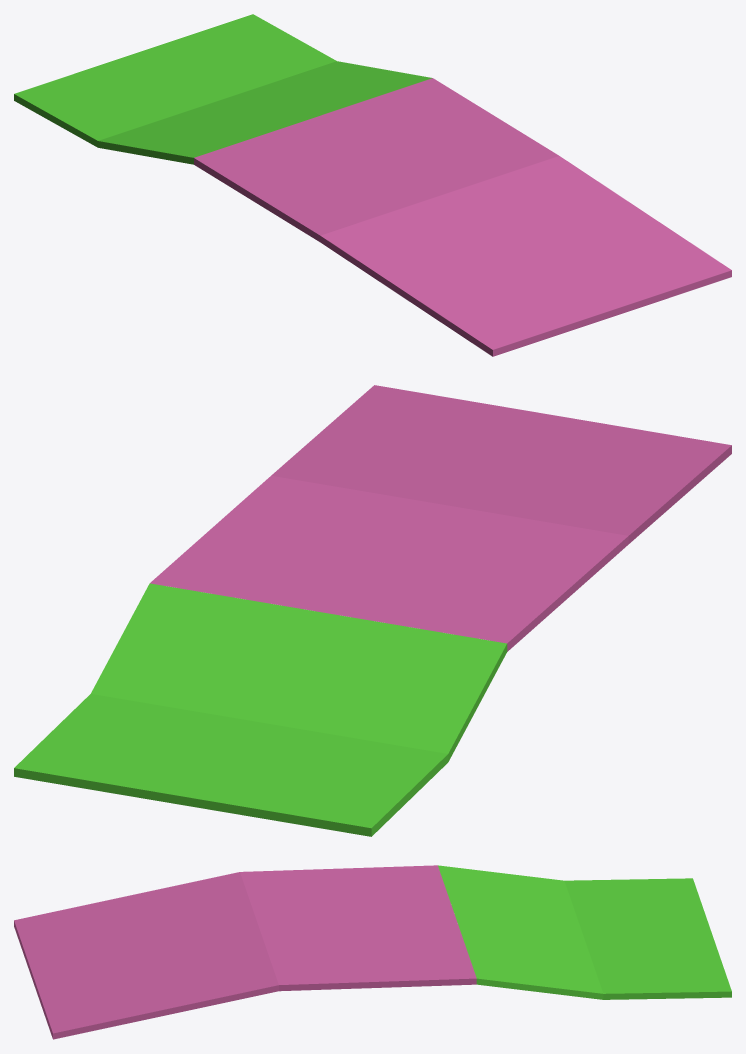
File: beach-towel3.glb
The picture shows the model from 3 angles, top to bottom: view 1: azimuth 30°, elevation 25°; view 2: azimuth 150°, elevation 25°; view 3: azimuth 270°, elevation 25°; orthographic projection. The views are drawn at different scales.
Parts seen in each view (by area): view 1: Pink2-material, Green-material; view 2: Pink2-material, Green-material; view 3: Pink2-material, Green-material.
Part boxes in pixels (<box>): Pink2-material: <box>194,78,731,356</box>; Green-material: <box>14,14,432,164</box>; Pink2-material: <box>150,385,731,651</box>; Green-material: <box>14,583,507,836</box>; Pink2-material: <box>14,865,476,1039</box>; Green-material: <box>438,865,731,999</box>.
Bounding box in the file's own units: 7.31 × 0.7647 × 14.29.
